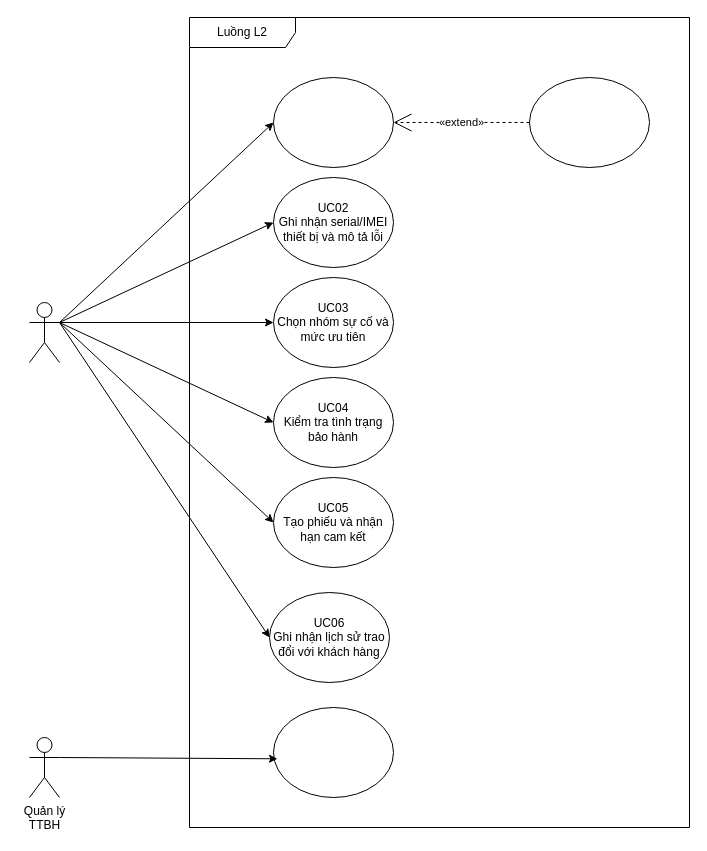
The diagram is 707 pixels wide and 851 high, and some of its shapes have lost their labels. The box of each missing label's shape, as (x1, y1, x2, y2) in pixels:
Nhân viên tiếp nhận: (28, 302, 60, 362)
UC01 Tra cứu khách hàng bằng số điện thoại: (272, 76, 394, 168)
UC07 Quản lý phê duyệt phiếu chưa xác minh: (272, 706, 394, 798)
UC11 Tạo mới khách hàng bằng số điện thoại: (528, 76, 650, 168)
